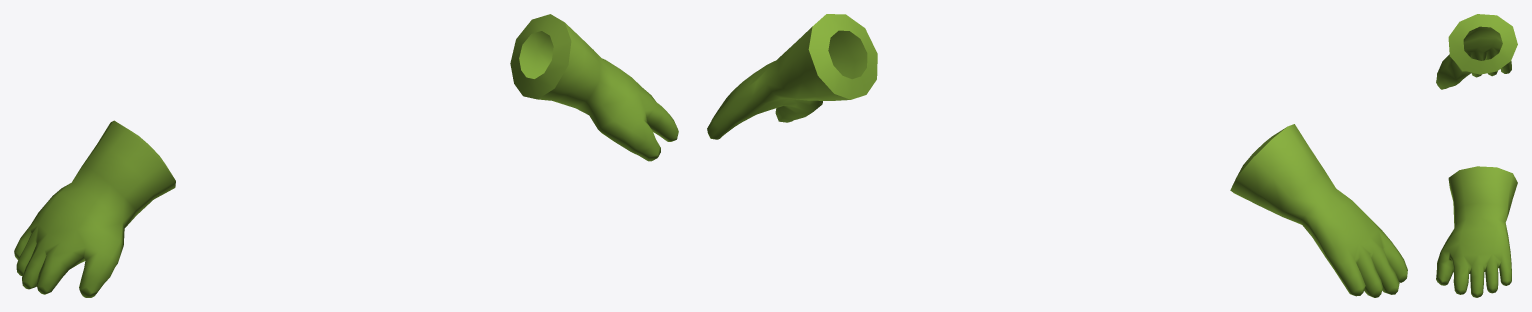
The model's file is Costume_5_03.glb.
The picture shows the model from 3 angles, left to right: view 1: azimuth 30°, elevation 25°; view 2: azimuth 150°, elevation 25°; view 3: azimuth 270°, elevation 25°; orthographic projection. The views are drawn at different scales.
Parts seen in each view (by area): view 1: Costume_5_03; view 2: Costume_5_03; view 3: Costume_5_03.
Part boxes in pixels (x1,y1,x2,y2): Costume_5_03: (14,14,678,297); Costume_5_03: (707,14,1407,297); Costume_5_03: (1436,14,1517,297).
Size of the model in its own units: 0.8285 by 0.1663 by 0.1271.
1 material, 1 textured.
